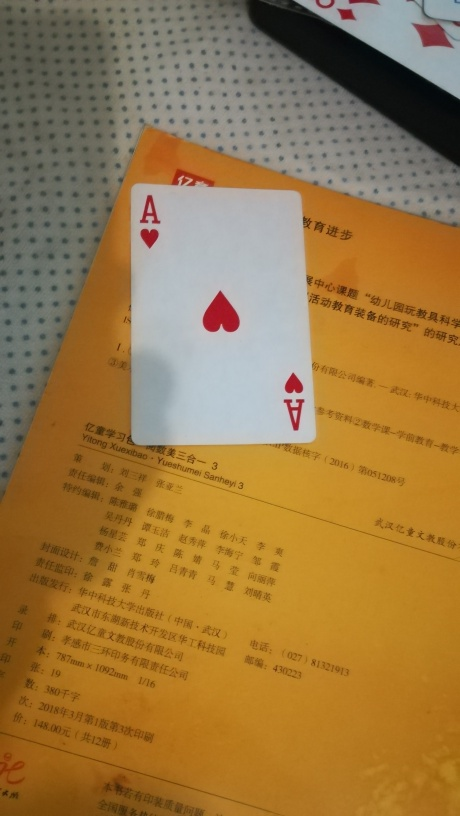hx a: (130, 184, 315, 447)
